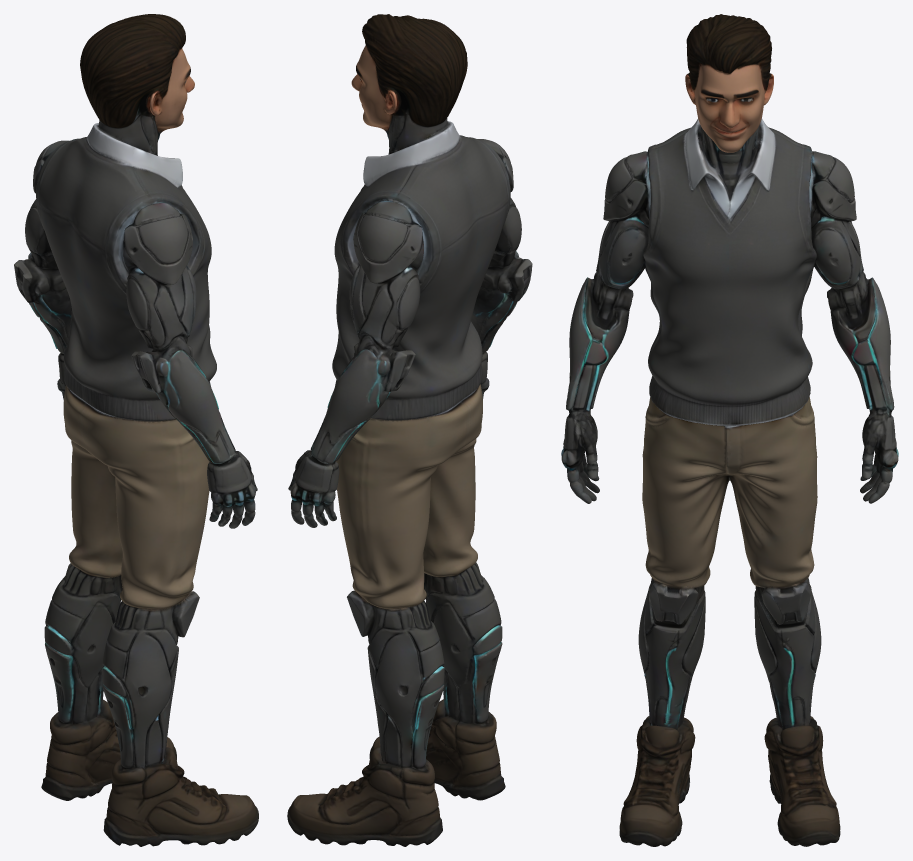
The model's file is CyborgMale.glb.
3 renders of one model, left to right at view 1: azimuth 30°, elevation 25°; view 2: azimuth 150°, elevation 25°; view 3: azimuth 270°, elevation 25°, orthographic.
Parts seen in each view (by area): view 1: tripo_node_3fb86630-0b5f-497a-99aa-2269befc05e5; view 2: tripo_node_3fb86630-0b5f-497a-99aa-2269befc05e5; view 3: tripo_node_3fb86630-0b5f-497a-99aa-2269befc05e5.
Boxes of the visible parts, left/top/right/bottom form: tripo_node_3fb86630-0b5f-497a-99aa-2269befc05e5: left=14, top=14, right=258, bottom=846; tripo_node_3fb86630-0b5f-497a-99aa-2269befc05e5: left=287, top=14, right=532, bottom=846; tripo_node_3fb86630-0b5f-497a-99aa-2269befc05e5: left=561, top=14, right=898, bottom=846.
Size of the model in its own units: 0.1956 by 0.9997 by 0.3846.
Materials: 1 (1 with a texture image).
